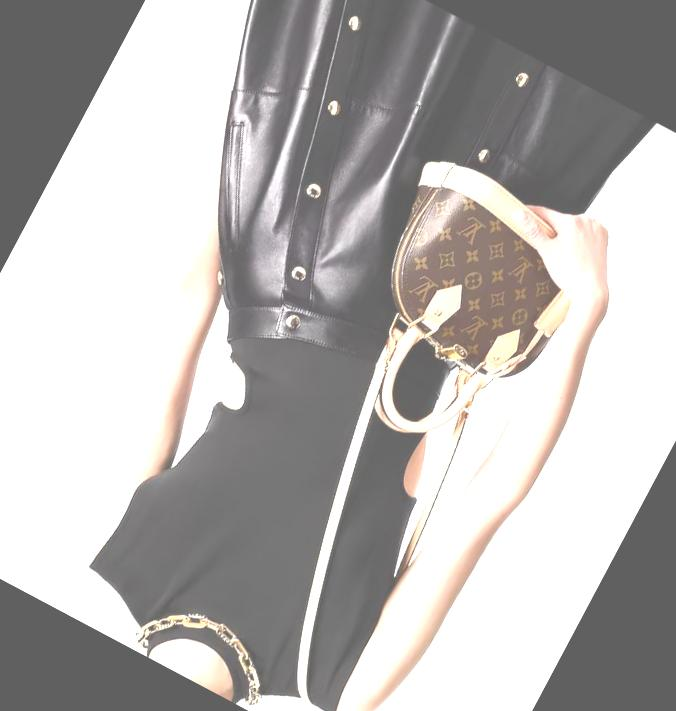LOUIS-VUITTON: (354, 178, 596, 403)
